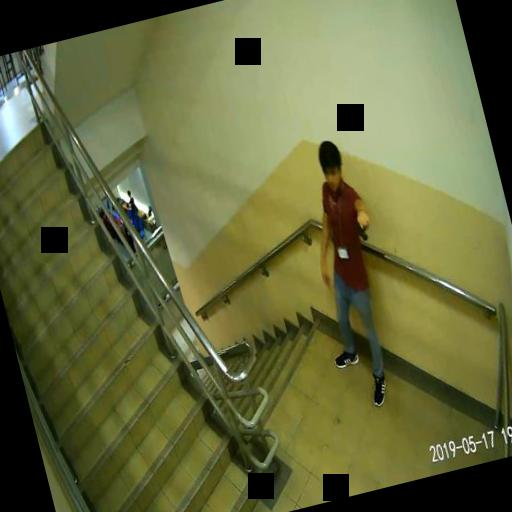Handgun: (350, 212, 376, 244)
